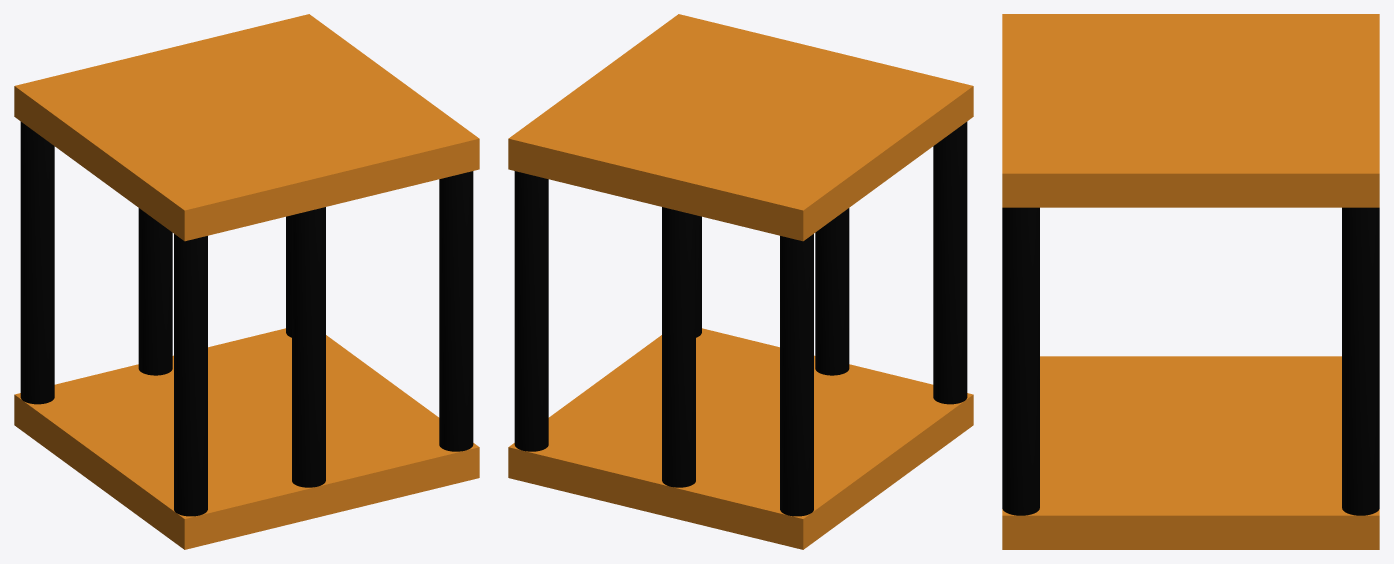
The model's file is squaredplate.glb.
3 renders of one model, left to right at view 1: azimuth 30°, elevation 25°; view 2: azimuth 150°, elevation 25°; view 3: azimuth 270°, elevation 25°, orthographic. The views are drawn at different scales.
Visible parts, largest first — view 1: Cube.001, Cube, Cylinder.003, Cylinder.001, Cylinder.002, Cylinder.004, Cylinder.005, Cylinder; view 2: Cube.001, Cube, Cylinder, Cylinder.002, Cylinder.001, Cylinder.005, Cylinder.004, Cylinder.003; view 3: Cube.001, Cube, Cylinder, Cylinder.003.
Boxes of the visible parts, x1,y1,x2,y2 form: Cube.001: [14, 14, 479, 241]; Cube: [14, 328, 479, 549]; Cylinder.003: [439, 171, 473, 451]; Cylinder.001: [20, 121, 54, 404]; Cylinder.002: [174, 234, 207, 516]; Cylinder.004: [292, 207, 325, 487]; Cylinder.005: [138, 208, 172, 375]; Cylinder: [286, 215, 291, 337]; Cube.001: [508, 14, 973, 241]; Cube: [508, 328, 973, 549]; Cylinder: [514, 171, 548, 451]; Cylinder.002: [933, 121, 967, 404]; Cylinder.001: [780, 234, 813, 516]; Cylinder.005: [662, 207, 695, 487]; Cylinder.004: [815, 208, 849, 375]; Cylinder.003: [696, 215, 701, 337]; Cube.001: [1002, 14, 1379, 207]; Cube: [1002, 356, 1379, 549]; Cylinder: [1342, 207, 1379, 515]; Cylinder.003: [1002, 207, 1039, 515].
Size of the model in its own units: 2 by 2.2 by 2.
